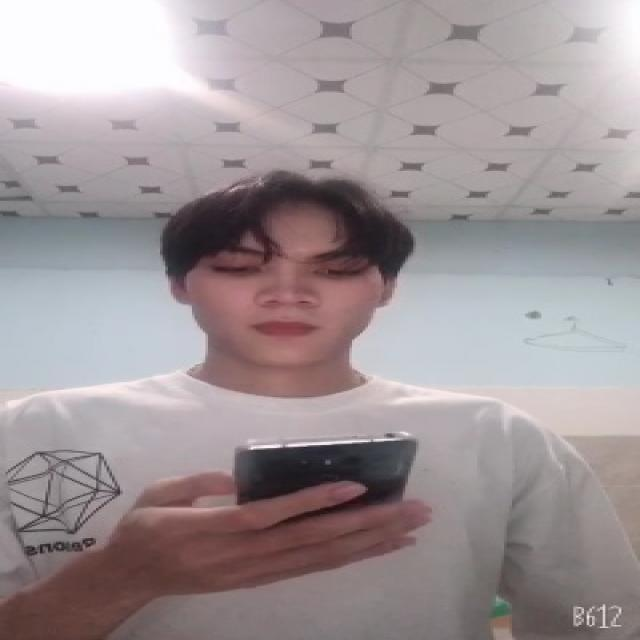Phone: (228, 428, 420, 516)
